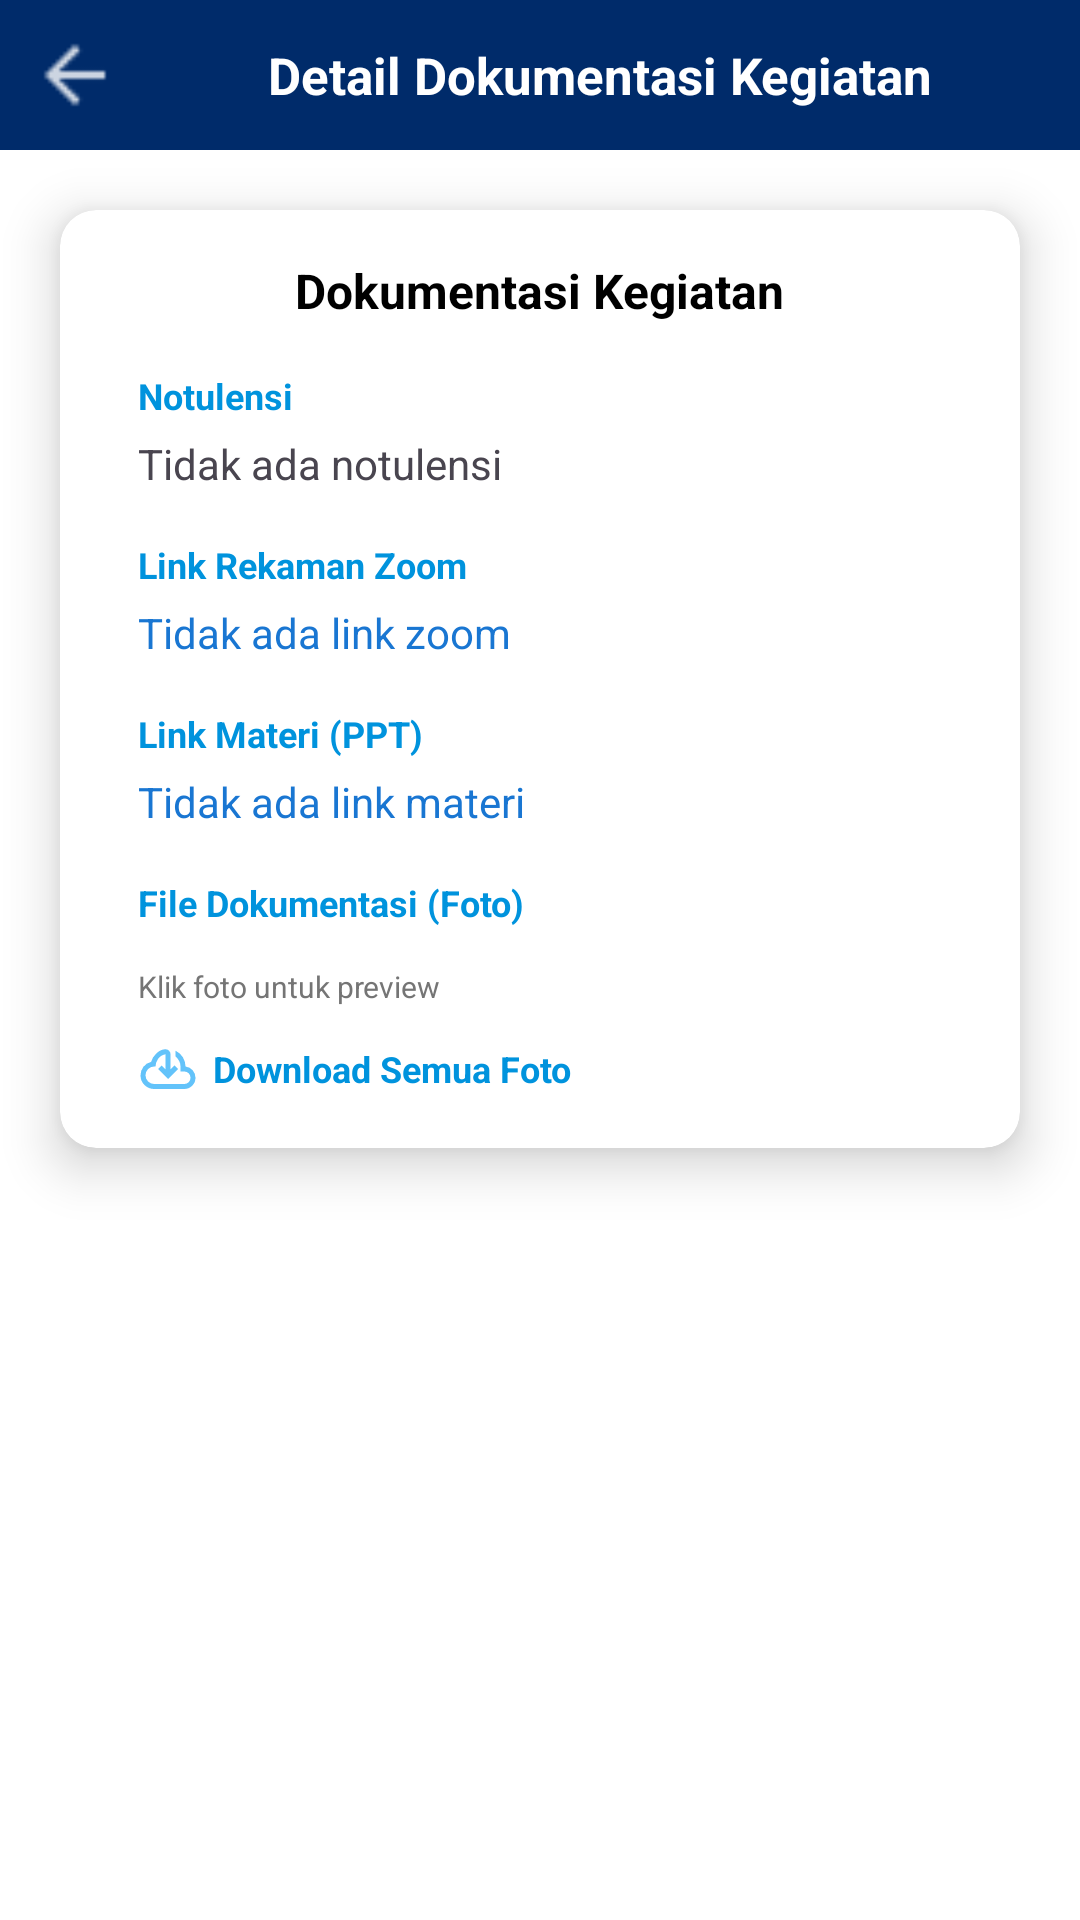

Icons on this 1080 × 1920 Android screen, each with the point to tap as (x,y):
back: (75,75)
